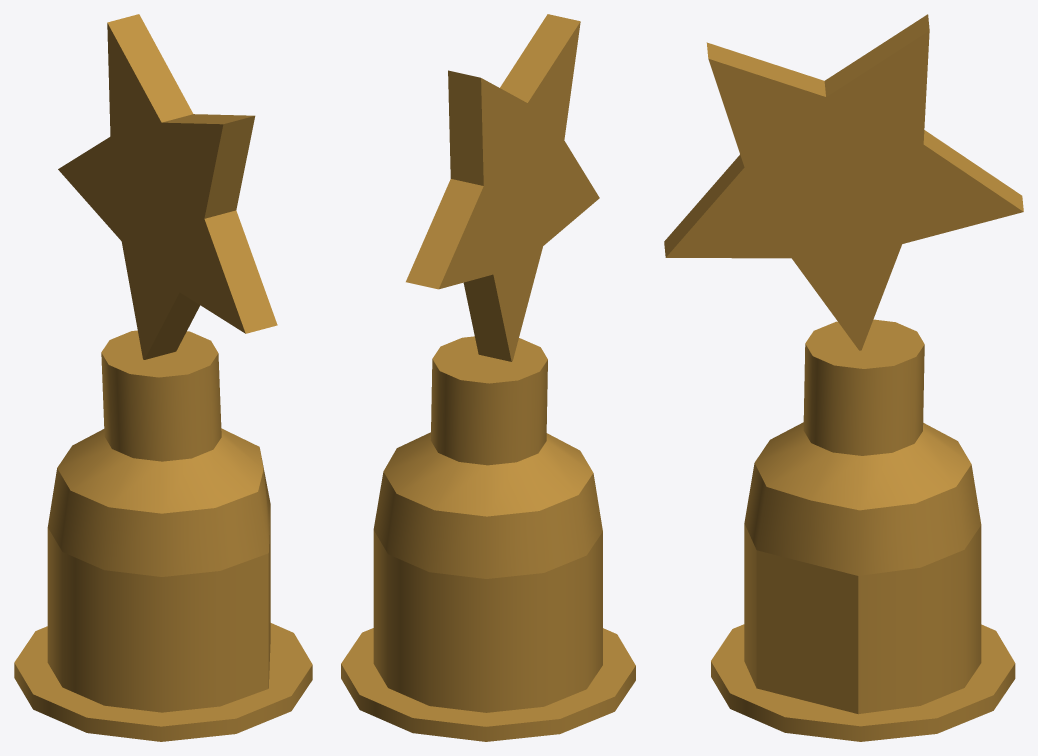
Rendered from Book_Shelf_Stuff_01.glb.
The picture shows the model from 3 angles, left to right: view 1: azimuth 30°, elevation 25°; view 2: azimuth 150°, elevation 25°; view 3: azimuth 270°, elevation 25°; orthographic projection. The views are drawn at different scales.
Parts seen in each view (by area): view 1: Awards; view 2: Awards; view 3: Awards.
Part boxes in pixels (<box>): Awards: <box>14,14,312,741</box>; Awards: <box>341,14,635,741</box>; Awards: <box>664,14,1023,741</box>.
Size of the model in its own units: 0.1098 by 0.2593 by 0.1297.
